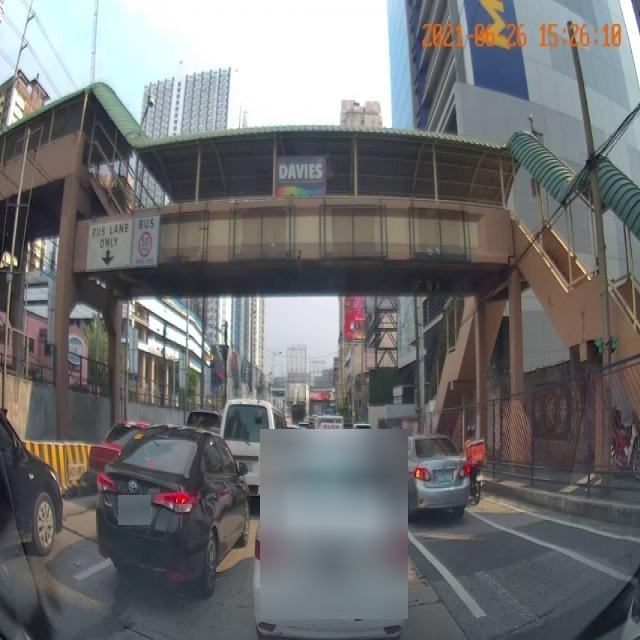car: (93, 433, 250, 575), (393, 436, 470, 524), (224, 396, 288, 500)
